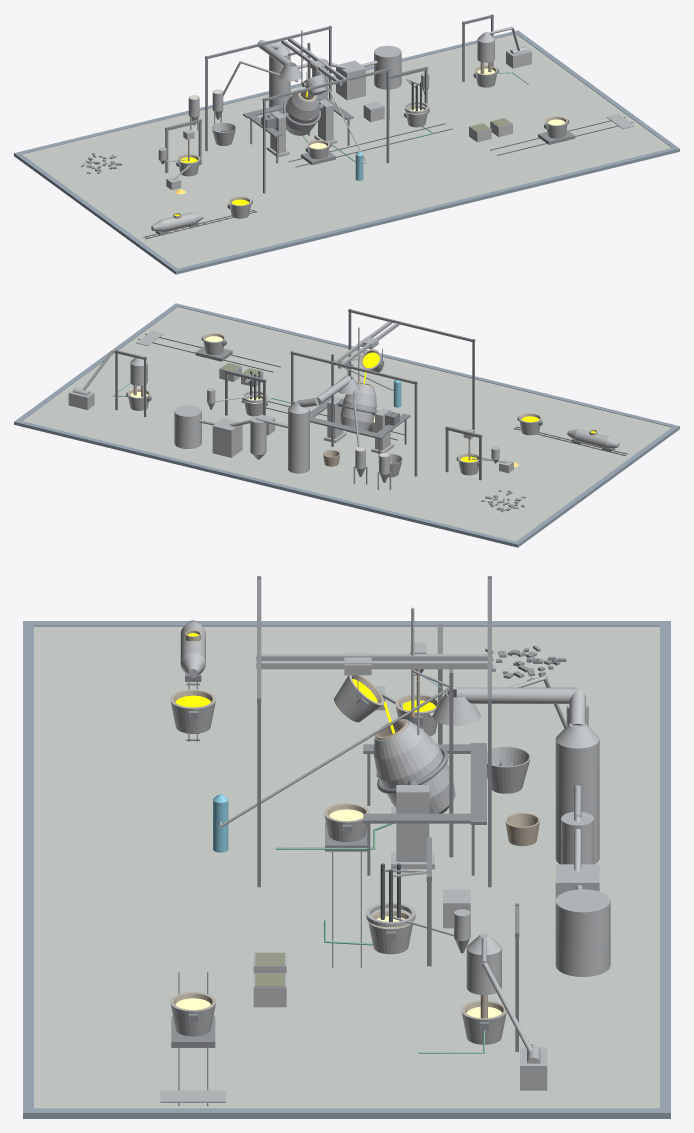
File: steelmaking.glb
3 views of the same model, one above another, from view 1: azimuth 30°, elevation 25°; view 2: azimuth 150°, elevation 25°; view 3: azimuth 270°, elevation 25° (orthographic). The views are drawn at different scales.
Parts seen in each view (by area): view 1: 00_Site, 05_Supports, 09_Secondary, 07_Offgas, 04_Charging, 02_HotMetalTreatment, 01_HotMetal, Converter, 08_Tapping, OutputLadle, 06_Oxygen, 11_Product; view 2: 00_Site, 07_Offgas, 05_Supports, 09_Secondary, 04_Charging, 01_HotMetal, 02_HotMetalTreatment, Converter, OutputLadle, 06_Oxygen, 11_Product, ChargeLadle (+1 smaller); view 3: 00_Site, 07_Offgas, 09_Secondary, 05_Supports, Converter, 08_Tapping, 06_Oxygen, 01_HotMetal, 04_Charging, OutputLadle, 02_HotMetalTreatment, ChargeLadle (+1 smaller).
Part boxes in pixels (bbox=[...]): 00_Site: bbox=[14, 30, 679, 274]; 05_Supports: bbox=[205, 25, 389, 193]; 09_Secondary: bbox=[363, 14, 531, 142]; 07_Offgas: bbox=[257, 40, 401, 113]; 04_Charging: bbox=[81, 61, 298, 173]; 02_HotMetalTreatment: bbox=[158, 119, 201, 194]; 01_HotMetal: bbox=[143, 196, 256, 239]; Converter: bbox=[283, 88, 320, 135]; 08_Tapping: bbox=[267, 113, 452, 167]; OutputLadle: bbox=[538, 116, 575, 144]; 06_Oxygen: bbox=[288, 42, 367, 180]; 11_Product: bbox=[490, 114, 634, 155]; 00_Site: bbox=[14, 303, 679, 547]; 07_Offgas: bbox=[174, 375, 359, 473]; 05_Supports: bbox=[290, 308, 475, 476]; 09_Secondary: bbox=[68, 349, 290, 435]; 04_Charging: bbox=[353, 390, 525, 512]; 01_HotMetal: bbox=[513, 413, 627, 455]; 02_HotMetalTreatment: bbox=[445, 426, 518, 480]; Converter: bbox=[340, 382, 376, 433]; OutputLadle: bbox=[195, 333, 232, 361]; 06_Oxygen: bbox=[331, 354, 401, 446]; 11_Product: bbox=[136, 330, 280, 372]; ChargeLadle: bbox=[359, 349, 384, 372]; 00_Site: bbox=[23, 621, 670, 1118]; 07_Offgas: bbox=[432, 687, 610, 976]; 09_Secondary: bbox=[253, 837, 547, 1090]; 05_Supports: bbox=[256, 576, 492, 887]; Converter: bbox=[373, 719, 455, 813]; 08_Tapping: bbox=[324, 803, 540, 967]; 06_Oxygen: bbox=[213, 669, 453, 857]; 01_HotMetal: bbox=[170, 620, 216, 741]; 04_Charging: bbox=[428, 645, 588, 793]; OutputLadle: bbox=[170, 992, 216, 1047]; 02_HotMetalTreatment: bbox=[336, 624, 442, 744]; ChargeLadle: bbox=[334, 675, 384, 722].
Bounding box in the file's own units: 212 × 47.6 × 118.
